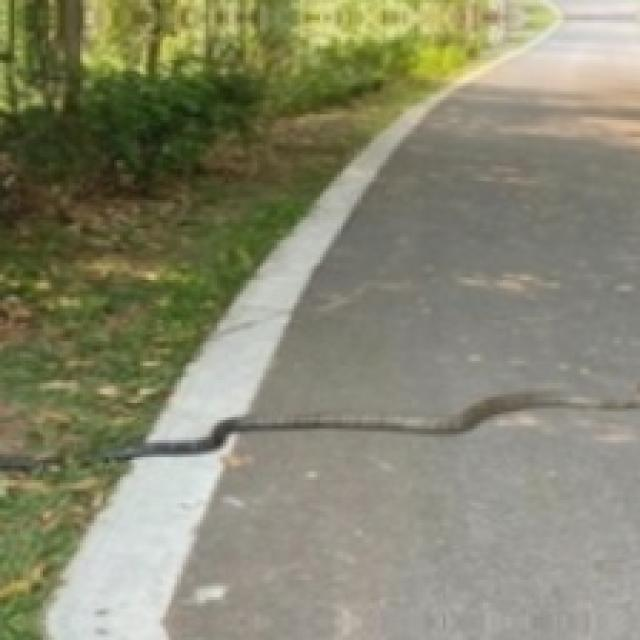king cobra: (100, 389, 637, 460)
